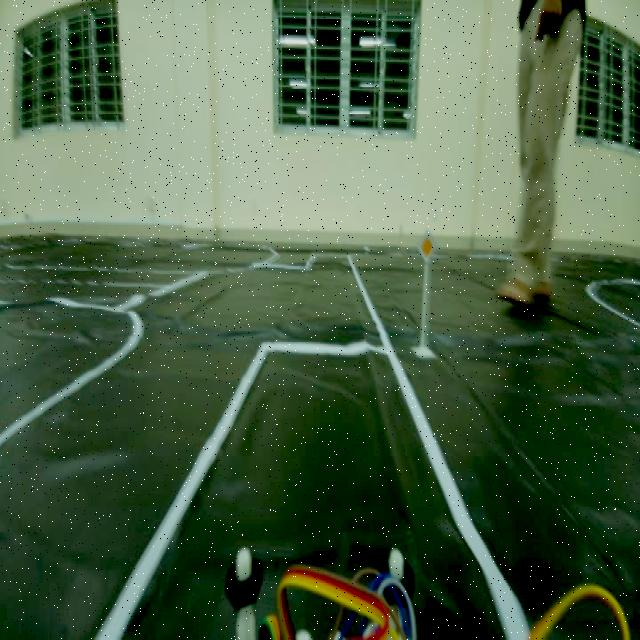priority: (414, 227, 436, 264)
